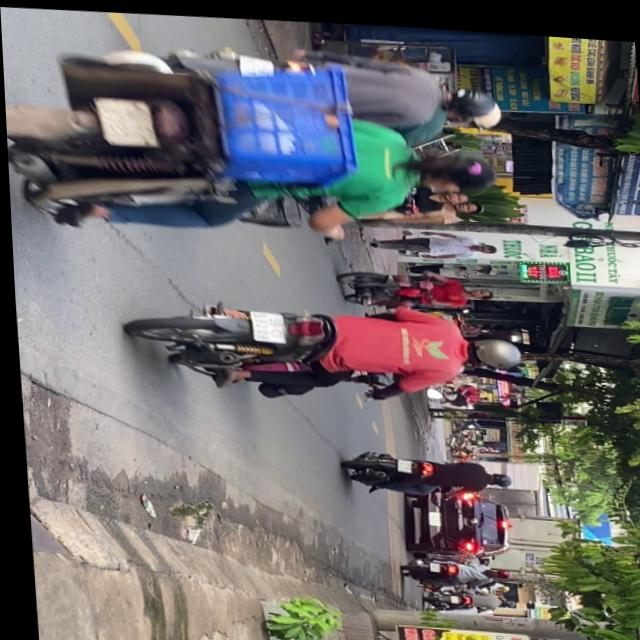helmet: (461, 326, 521, 362), (439, 78, 499, 112), (451, 97, 502, 121), (484, 462, 511, 479)
licenseplate: (1, 18, 506, 255), (125, 281, 526, 409), (338, 440, 513, 495)
motorcyclist: (408, 140, 497, 190)
nohelmet: (95, 94, 156, 144), (248, 306, 283, 339), (392, 452, 408, 465)
